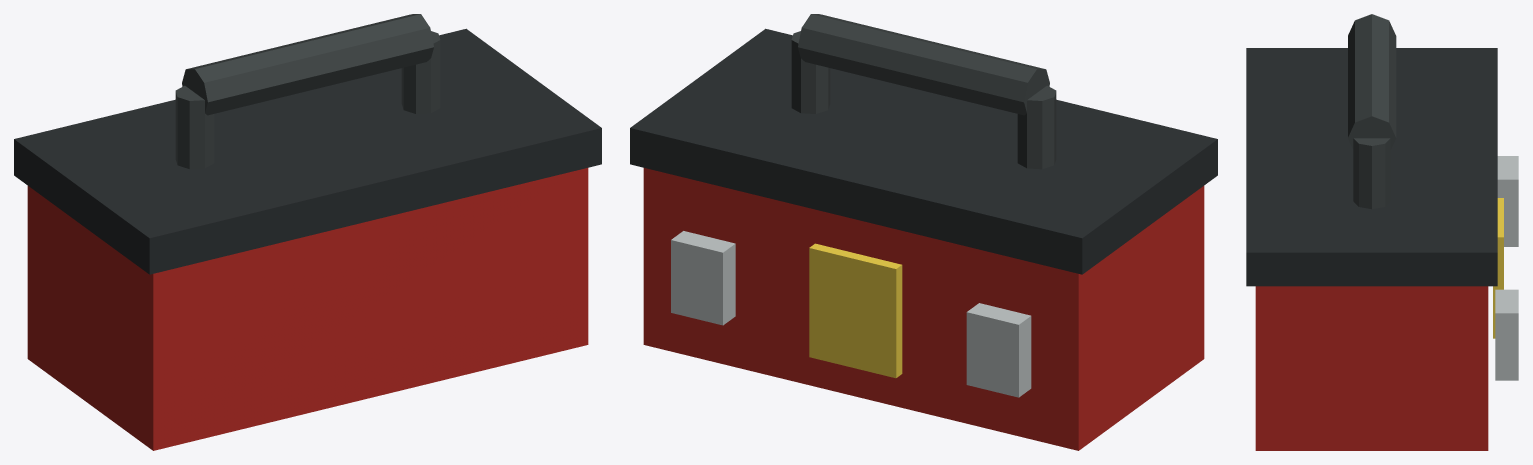
Rendered from HomebasePortableToolbox_LOD00.gltf.
The picture shows the model from 3 angles, left to right: view 1: azimuth 30°, elevation 25°; view 2: azimuth 150°, elevation 25°; view 3: azimuth 270°, elevation 25°; orthographic projection. The views are drawn at different scales.
Visible parts, largest first — view 1: HomebasePortableToolbox_node; view 2: HomebasePortableToolbox_node; view 3: HomebasePortableToolbox_node.
Boxes of the visible parts, x1,y1,x2,y2 form: HomebasePortableToolbox_node: (14, 14, 601, 450); HomebasePortableToolbox_node: (630, 14, 1217, 450); HomebasePortableToolbox_node: (1246, 14, 1518, 450).
Bounding box in the file's own units: 0.52 × 0.356 × 0.2925.
